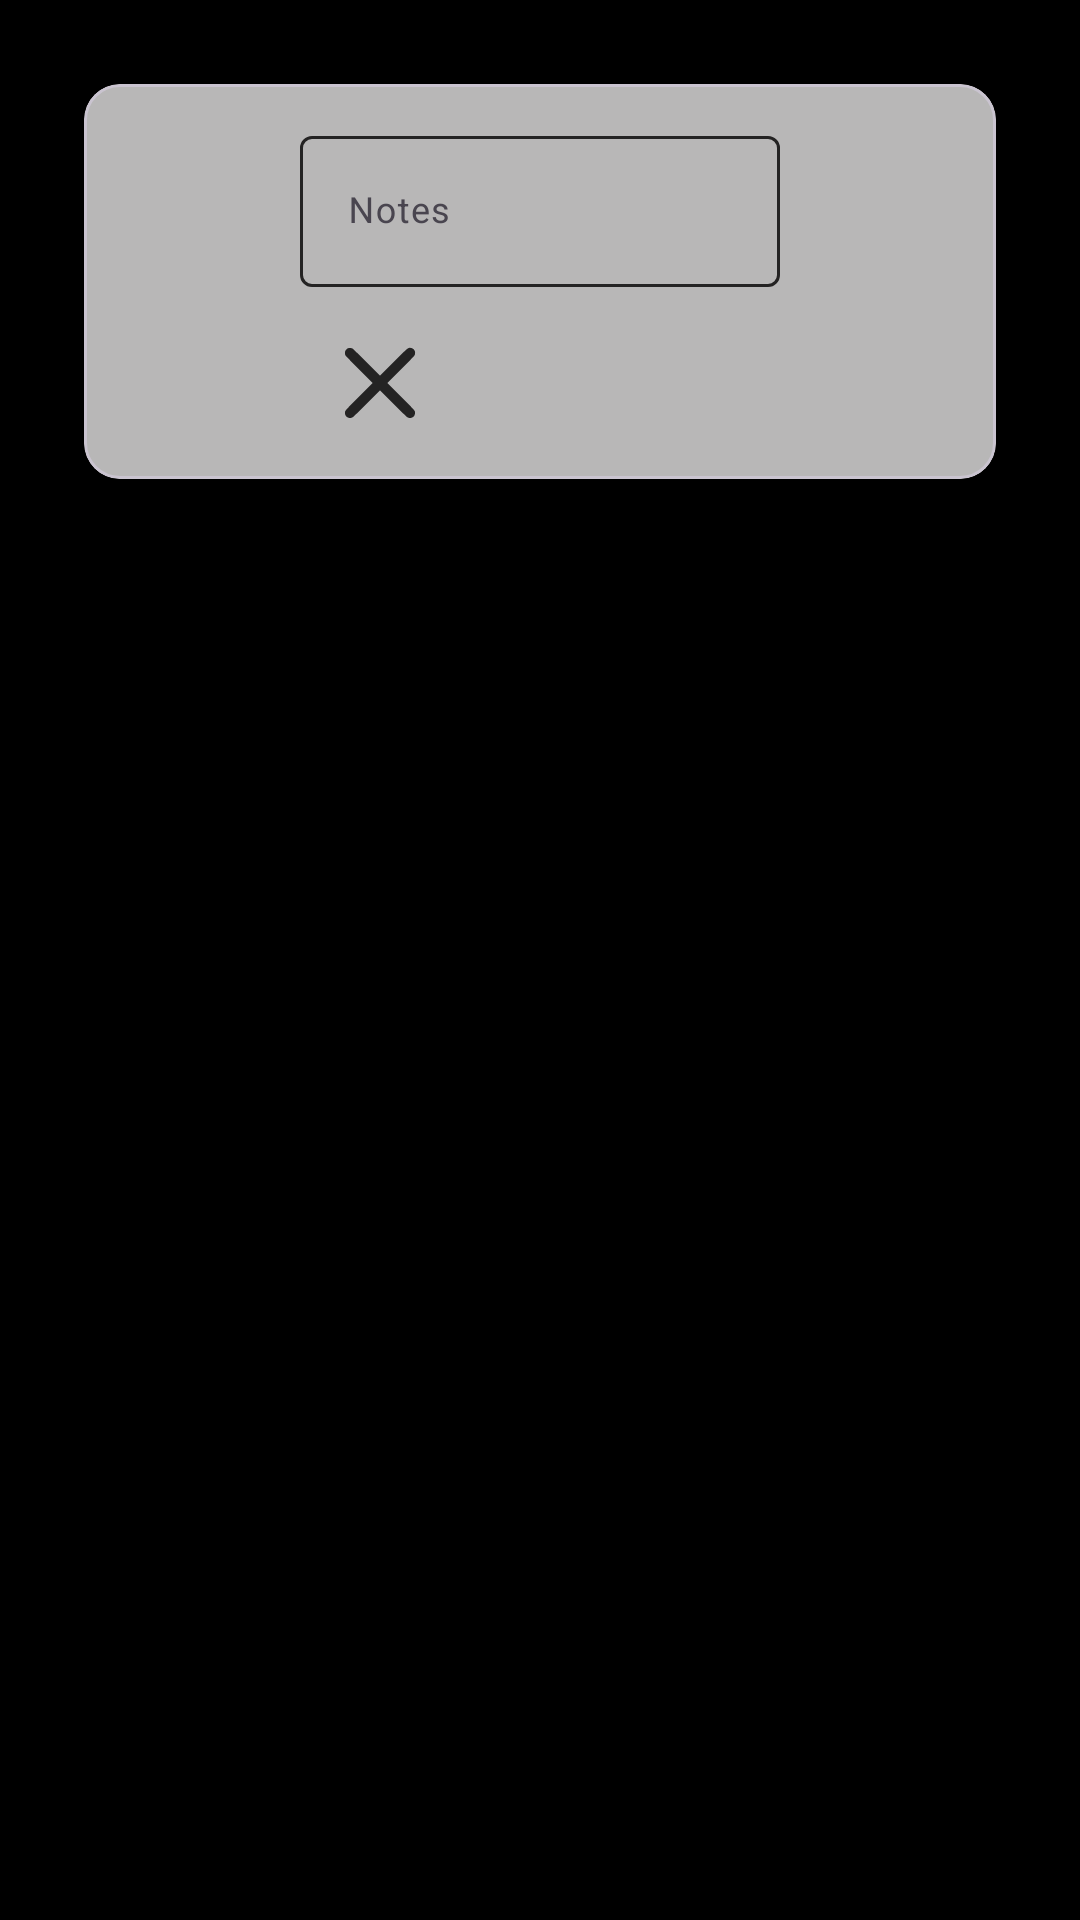

Screen size 1080×1920. Icon name, then its center in pixels as (x=x, y=y):
no check: (x=380, y=382)
